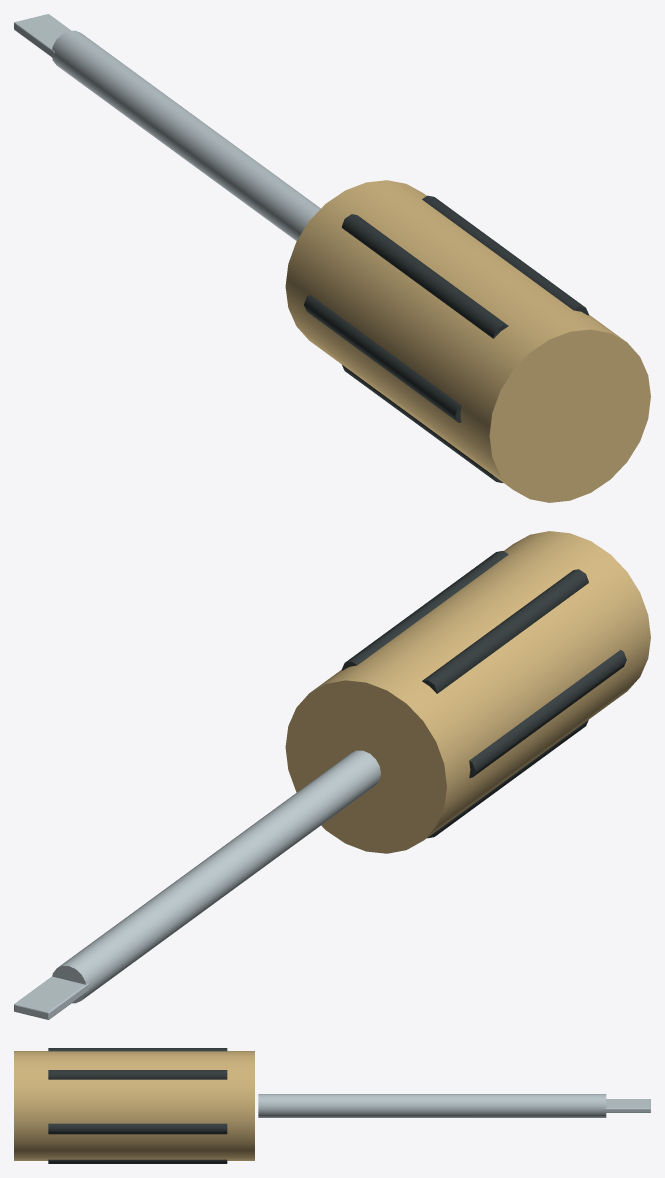
Rendered from loot_screwdriver.glb.
The picture shows the model from 3 angles, top to bottom: view 1: azimuth 30°, elevation 25°; view 2: azimuth 150°, elevation 25°; view 3: azimuth 270°, elevation 25°; orthographic projection. The views are drawn at different scales.
Parts seen in each view (by area): view 1: loot_screwdriver; view 2: loot_screwdriver; view 3: loot_screwdriver.
Part boxes in pixels (box(x1,y1,x2,y2)): loot_screwdriver: box(14, 14, 650, 502); loot_screwdriver: box(14, 531, 650, 1019); loot_screwdriver: box(14, 1048, 650, 1163).
Bounding box in the file's own units: 0.034 × 0.032 × 0.185.
